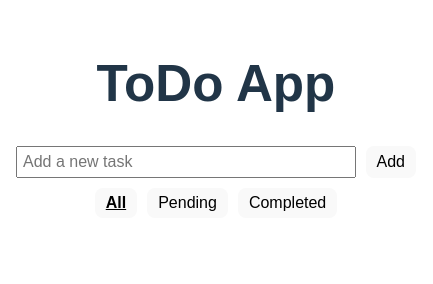
Test case: ToDo App › filters tasks based on selected filter
Step 1. Type "Task 1" into the field with placeholder "Add a new task" → (186, 162), box 16,146 -> 356,178
Step 2. Click the button "Add" → click(391, 162), box 366,146 -> 416,178
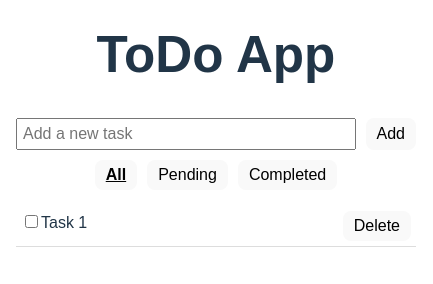
Step 3. Type "Task 2" into the field with placeholder "Add a new task" → (186, 134), box 16,118 -> 356,150
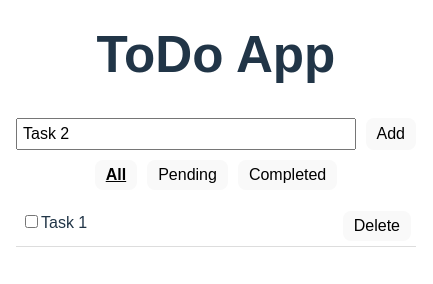
Step 4. Click the button "Add" → click(391, 134), box 366,118 -> 416,150
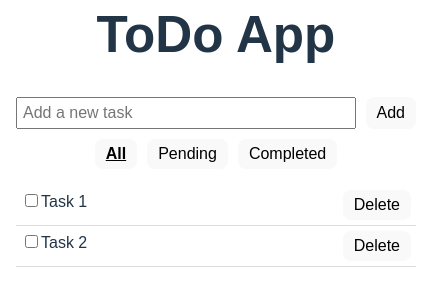
Step 5. Click the checkbox labelled "Task 1" → click(32, 201), box 25,194 -> 38,208
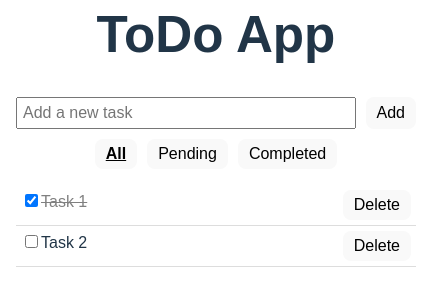
Step 6. Click the button "Pending" → click(188, 154), box 147,140 -> 228,170
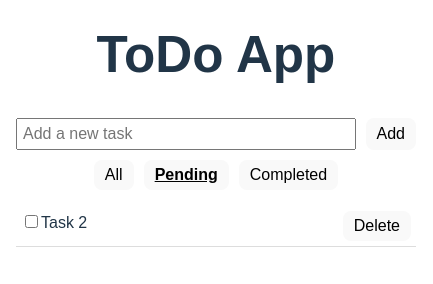
Result: the text "Task 2" is shown at 41,214 -> 87,231
Result: the text "Task 1" is gone
Step 7. Click the button "Completed" → click(288, 175), box 239,160 -> 338,190
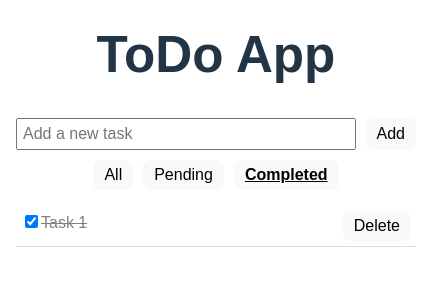
Result: the text "Task 1" is shown at 41,214 -> 87,231
Result: the text "Task 2" is gone
